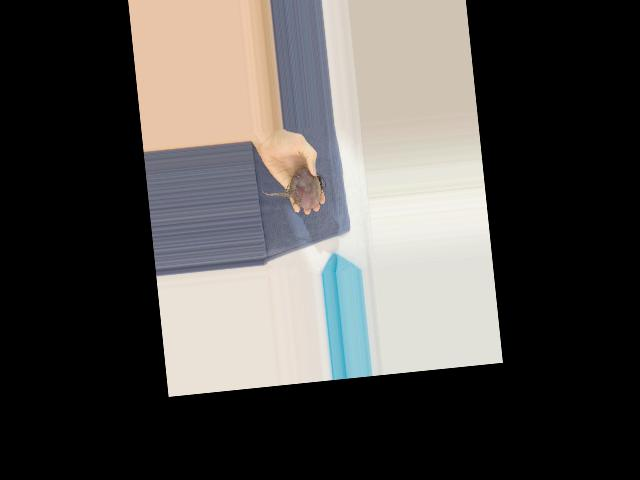beet: (259, 166, 327, 214)
